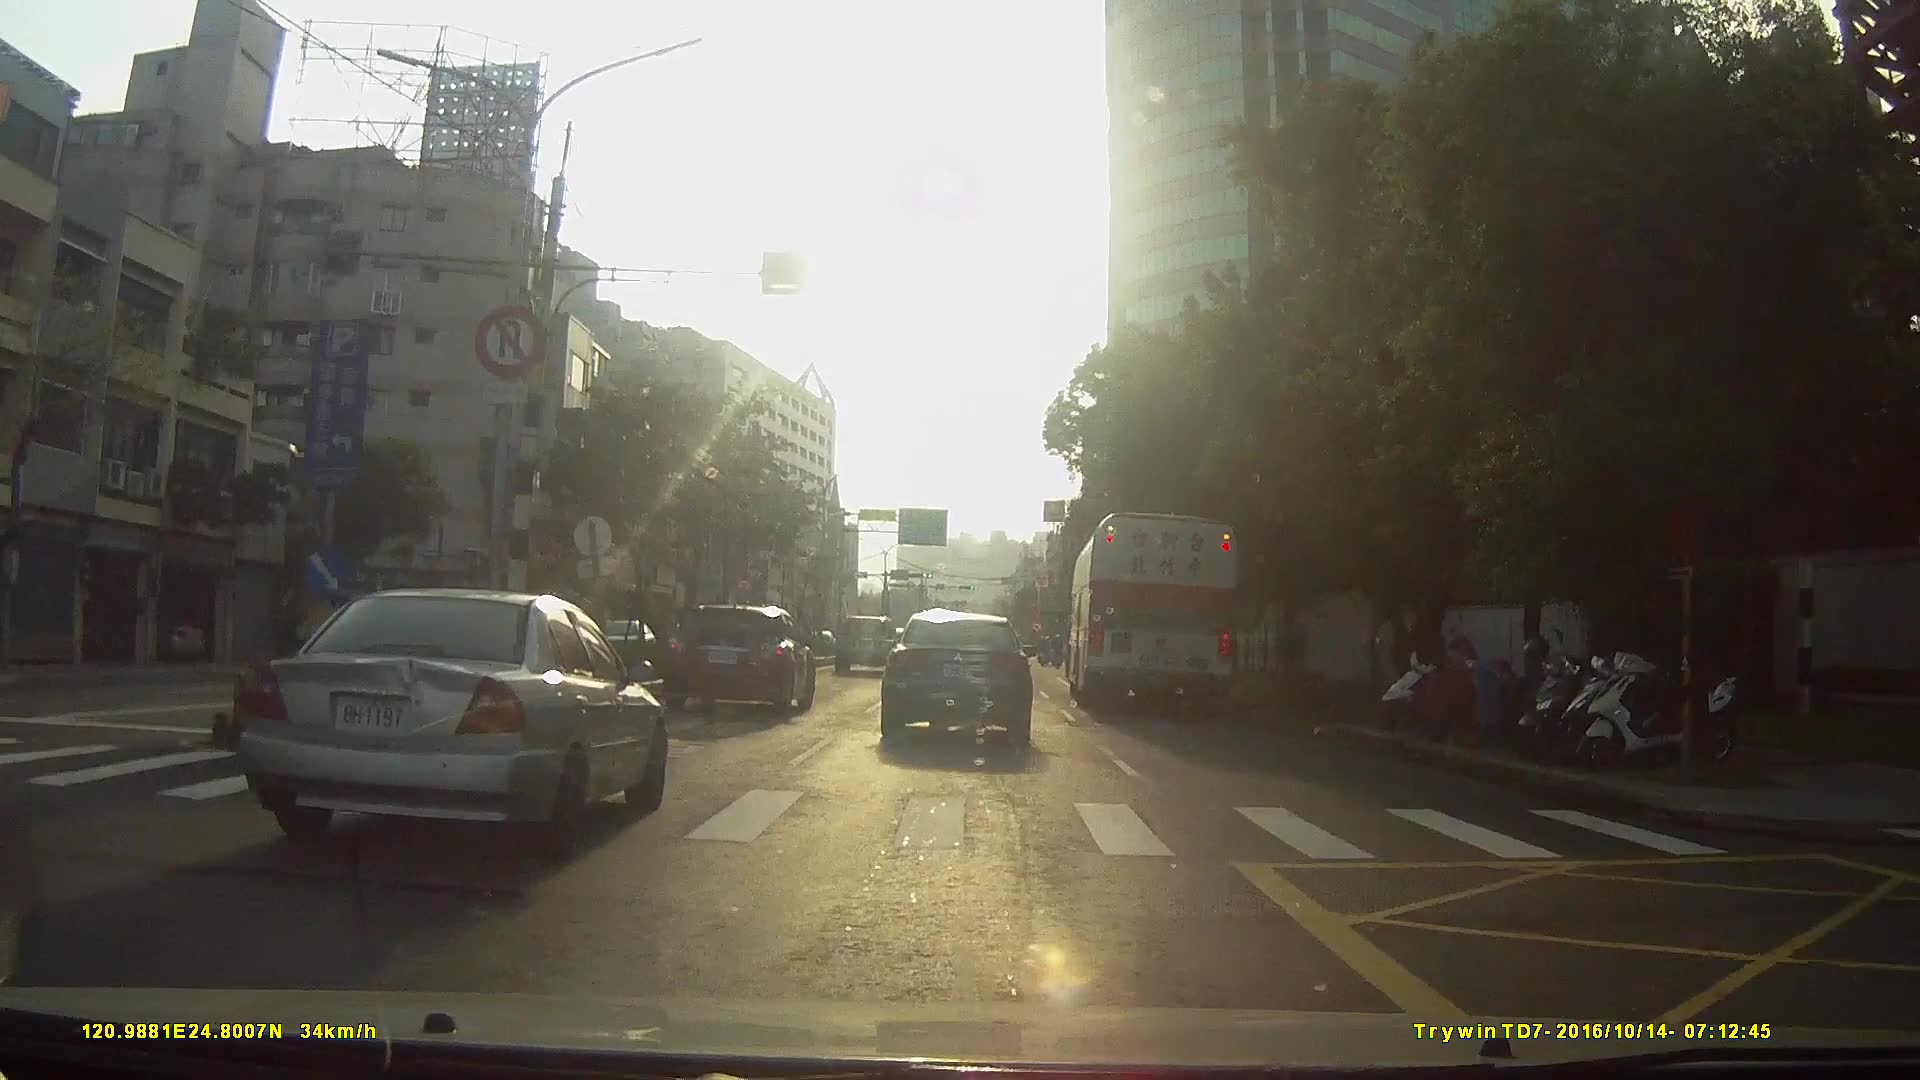vehicle: (229, 584, 663, 857), (1067, 506, 1241, 713), (880, 611, 1034, 752), (663, 603, 816, 721), (832, 611, 899, 673)
